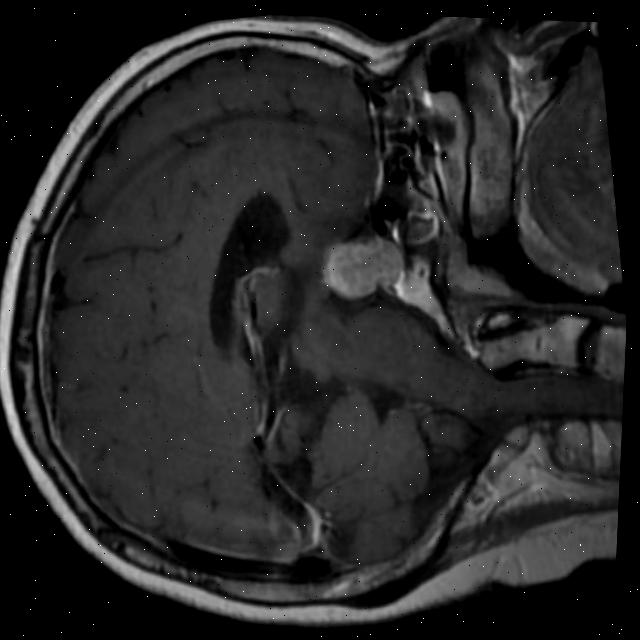Pituitary: (313, 233, 409, 306)
